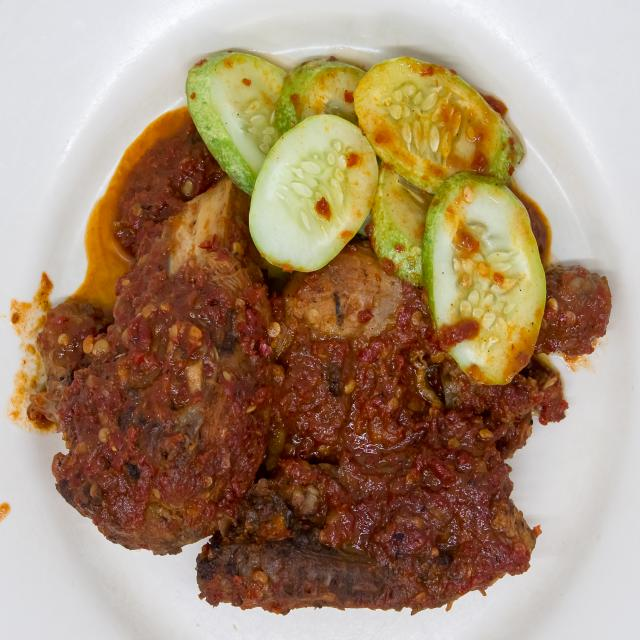Ayam-Bumbu-Rujak: (32, 132, 617, 621)
